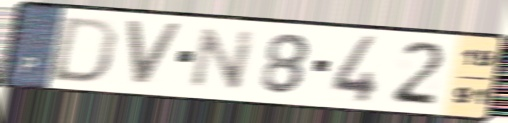2: (385, 40, 451, 109)
4: (327, 32, 381, 107)
8: (259, 31, 311, 96)
D: (44, 15, 122, 86)
N: (185, 25, 261, 92)
V: (122, 17, 186, 90)
